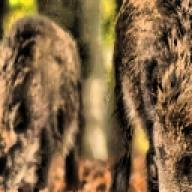boar: (106, 0, 192, 192), (0, 13, 82, 192)
